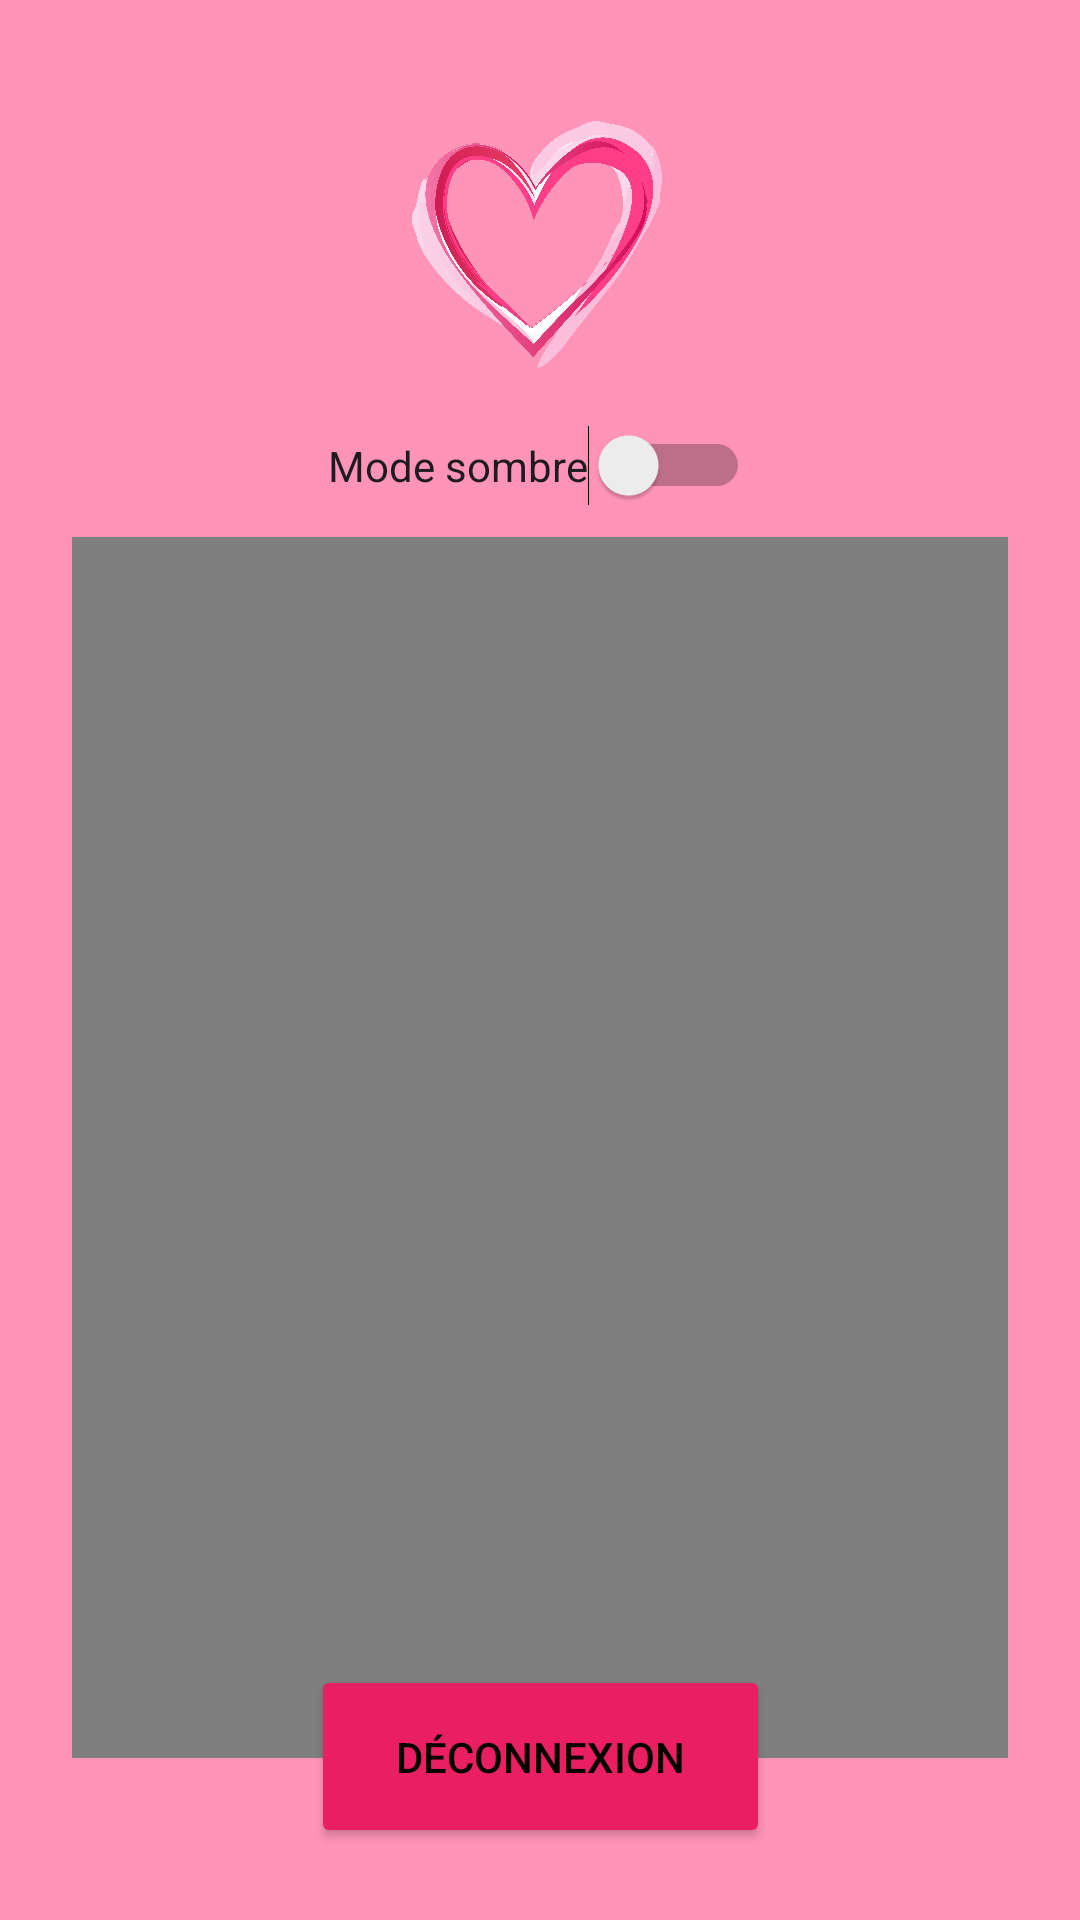

Screen size 1080*1920. Icon name, then its center in pixels as (x,y):
coeur: (537,244)
